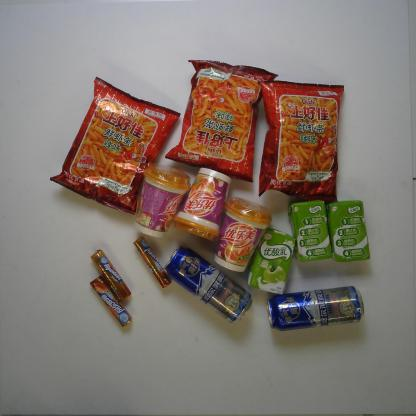Alcohol: (165, 246, 254, 325), (264, 286, 365, 331)
Candy: (89, 274, 134, 327), (90, 249, 132, 300), (133, 233, 171, 287)
Instant Drink: (132, 163, 195, 237), (173, 165, 232, 241), (214, 198, 271, 274)
Milk: (248, 226, 296, 298), (286, 199, 334, 262), (327, 198, 372, 264)
Puffed Food: (50, 75, 183, 216), (166, 59, 280, 184), (256, 78, 346, 206)
